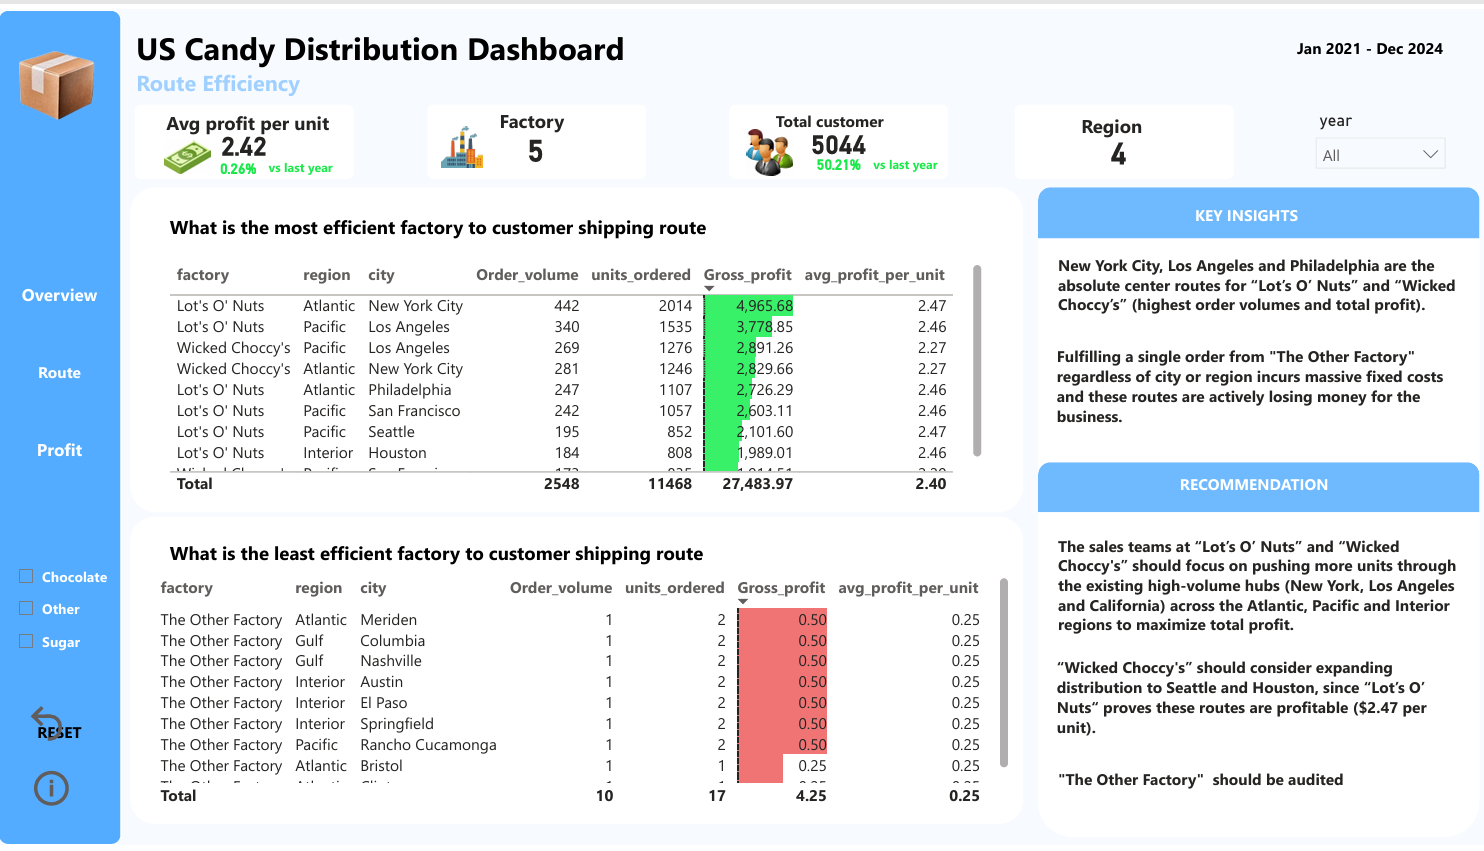

What the dashboard file says about the page in this screenshot:
{"tool":"powerbi","page":{"name":"Route","canvas":[1280,720],"ordinal":1},"visuals":[{"type":"shape","box":[113.6,437.3,769.1,264.5],"z":0},{"type":"shape","box":[0,0,106.4,720],"z":1000},{"type":"textbox","box":[113.6,9.1,508.2,49.1],"z":2000},{"type":"textbox","box":[113.6,44.5,215.5,40.9],"z":3000},{"type":"shape","box":[113.6,152.7,769.1,280],"z":4000},{"type":"shape","box":[896.4,152.7,380,560],"z":5000},{"type":"tableEx","fields":{"Values":["dim_products.factory","fact_sales.region","fact_sales.city","kpi.Order_volume","kpi.units_ordered","kpi.Gross_profit","problem_statement.avg_profit_per_unit"]},"box":[142.7,213.6,710,208.2],"z":6000},{"type":"tableEx","fields":{"Values":["dim_products.factory","fact_sales.region","fact_sales.city","kpi.Order_volume","kpi.units_ordered","kpi.Gross_profit","problem_statement.avg_profit_per_unit"]},"box":[129,484,747,207],"z":7000},{"type":"textbox","box":[142.7,170.9,537.3,49.1],"z":8000},{"type":"textbox","box":[142.7,451.8,537.3,49.1],"z":9000},{"type":"shape","box":[118.1,81.8,188.2,63.6],"z":10000},{"type":"shape","box":[369.9,81.8,188.2,63.6],"z":11000},{"type":"shape","box":[629.9,81.8,188.2,63.6],"z":12000},{"type":"shape","box":[876.3,81.8,188.2,63.6],"z":13000},{"type":"slicer","fields":{"Values":["calendar.year"]},"box":[1125.5,81.8,131.8,65.5],"z":14000},{"type":"card","fields":{"Values":["kpi.factory_count"]},"box":[406.4,94.5,113.6,50.9],"z":15000},{"type":"card","fields":{"Values":["kpi.Total_customer"]},"box":[654.5,90,137.3,51.8],"z":16000},{"type":"card","fields":{"Values":["problem_statement.avg_profit_per_unit"]},"box":[160,95.5,103.6,44.5],"z":17000},{"type":"card","fields":{"Values":["kpi.region"]},"box":[917.3,95.5,96.4,55.5],"z":18000},{"type":"slicer","fields":{"Values":["dim_products.division"]},"box":[4.5,469.1,97.3,110.9],"z":19000},{"type":"actionButton","box":[26.4,650.9,53.6,40],"z":20000},{"type":"pageNavigator","box":[8.2,216.4,90.9,193.6],"z":21000},{"type":"textbox","box":[928.2,83.6,116.4,34.5],"z":22000},{"type":"textbox","box":[665.5,81.8,134.5,30],"z":23000},{"type":"textbox","box":[427.3,80,92.7,34.5],"z":24000},{"type":"textbox","box":[140,81.8,162.7,34.5],"z":25000},{"type":"shape","box":[896,153,380,44],"z":26000},{"type":"textbox","box":[1026,163,106,32],"z":27000},{"type":"textbox","box":[908,206,368,95],"z":28000},{"type":"textbox","box":[908,448,368,105],"z":29000},{"type":"textbox","box":[907,285,370,95],"z":30000},{"type":"shape","box":[896,390,380,43],"z":31000},{"type":"textbox","box":[1013,394.7,151.8,32.7],"z":32000},{"type":"textbox","box":[907,553,350,83],"z":33000},{"type":"textbox","box":[908,649,278,42],"z":34000},{"type":"textbox","box":[749,118,66,29],"z":35000},{"type":"textbox","box":[228,121,66,29],"z":36000},{"type":"card","fields":{"Values":["kpi.avg_profit_pct_change"]},"box":[177,123,60,23],"z":37000},{"type":"card","fields":{"Values":["kpi.customer_pct_change"]},"box":[688,118,72,34],"z":38000},{"type":"image","box":[143,108,39.9,38.9],"z":39000},{"type":"image","box":[644.9,103.1,39.9,39.9],"z":40000},{"type":"image","box":[377.7,101.1,42.6,35.5],"z":41000},{"type":"textbox","box":[1113.6,19.1,143.6,28.2],"z":42000},{"type":"image","box":[7.1,25.7,91.3,77.1],"z":43000},{"type":"actionButton","box":[21.8,594.5,61.8,40],"z":43001}]}

Visuals, with their boxes on the page's 1280x720 design canvas (x1, y1, x2, y2). These are canvas units, not pixel positions in the 1484x851 screenshot, which may show the page scaled, cropped or inside an application window:
shape: [left=114, top=437, right=883, bottom=702]
shape: [left=0, top=0, right=106, bottom=720]
textbox: [left=114, top=9, right=622, bottom=58]
textbox: [left=114, top=44, right=329, bottom=85]
shape: [left=114, top=153, right=883, bottom=433]
shape: [left=896, top=153, right=1276, bottom=713]
tableEx - dim_products.factory x fact_sales.region: [left=143, top=214, right=853, bottom=422]
tableEx - dim_products.factory x fact_sales.region: [left=129, top=484, right=876, bottom=691]
textbox: [left=143, top=171, right=680, bottom=220]
textbox: [left=143, top=452, right=680, bottom=501]
shape: [left=118, top=82, right=306, bottom=145]
shape: [left=370, top=82, right=558, bottom=145]
shape: [left=630, top=82, right=818, bottom=145]
shape: [left=876, top=82, right=1064, bottom=145]
slicer - calendar.year: [left=1126, top=82, right=1257, bottom=147]
card - kpi.factory_count: [left=406, top=94, right=520, bottom=145]
card - kpi.Total_customer: [left=654, top=90, right=792, bottom=142]
card - problem_statement.avg_profit_per_unit: [left=160, top=96, right=264, bottom=140]
card - kpi.region: [left=917, top=96, right=1014, bottom=151]
slicer - dim_products.division: [left=4, top=469, right=102, bottom=580]
actionButton: [left=26, top=651, right=80, bottom=691]
pageNavigator: [left=8, top=216, right=99, bottom=410]
textbox: [left=928, top=84, right=1045, bottom=118]
textbox: [left=666, top=82, right=800, bottom=112]
textbox: [left=427, top=80, right=520, bottom=114]
textbox: [left=140, top=82, right=303, bottom=116]
shape: [left=896, top=153, right=1276, bottom=197]
textbox: [left=1026, top=163, right=1132, bottom=195]
textbox: [left=908, top=206, right=1276, bottom=301]
textbox: [left=908, top=448, right=1276, bottom=553]
textbox: [left=907, top=285, right=1277, bottom=380]
shape: [left=896, top=390, right=1276, bottom=433]
textbox: [left=1013, top=395, right=1165, bottom=427]
textbox: [left=907, top=553, right=1257, bottom=636]
textbox: [left=908, top=649, right=1186, bottom=691]
textbox: [left=749, top=118, right=815, bottom=147]
textbox: [left=228, top=121, right=294, bottom=150]
card - kpi.avg_profit_pct_change: [left=177, top=123, right=237, bottom=146]
card - kpi.customer_pct_change: [left=688, top=118, right=760, bottom=152]
image: [left=143, top=108, right=183, bottom=147]
image: [left=645, top=103, right=685, bottom=143]
image: [left=378, top=101, right=420, bottom=137]
textbox: [left=1114, top=19, right=1257, bottom=47]
image: [left=7, top=26, right=98, bottom=103]
actionButton: [left=22, top=594, right=84, bottom=634]
